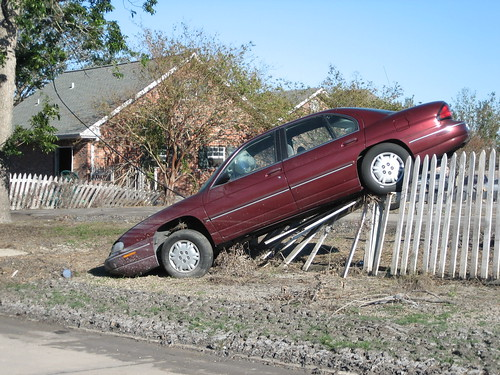building: (16, 57, 248, 172)
car: (108, 100, 468, 286)
sky: (124, 1, 500, 98)
